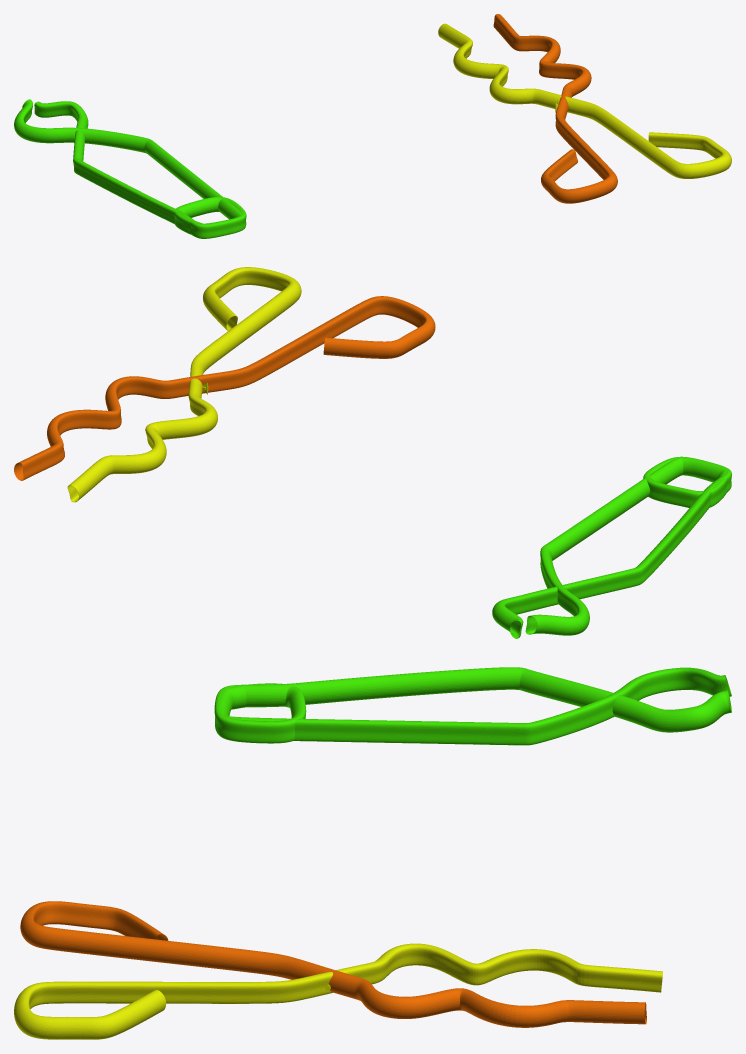
File: tongsNov19.glb
3 renders of one model, top to bottom at view 1: azimuth 30°, elevation 25°; view 2: azimuth 150°, elevation 25°; view 3: azimuth 270°, elevation 25°, orthographic. The views are drawn at different scales.
Visible parts, largest first — view 1: NurbsPath.002, NurbsPath, NurbsPath.001; view 2: NurbsPath.002, NurbsPath.001, NurbsPath; view 3: NurbsPath.002, NurbsPath, NurbsPath.001.
Part boxes in pixels (<box>): NurbsPath.002: <box>14,99,246,238</box>; NurbsPath: <box>438,23,731,178</box>; NurbsPath.001: <box>493,14,617,203</box>; NurbsPath.002: <box>492,456,731,638</box>; NurbsPath.001: <box>14,296,435,480</box>; NurbsPath: <box>67,267,301,502</box>; NurbsPath.002: <box>214,667,731,745</box>; NurbsPath: <box>14,943,662,1039</box>; NurbsPath.001: <box>20,901,646,1027</box>.
Bounding box in the file's own units: 0.2295 × 0.0118 × 0.1896.
